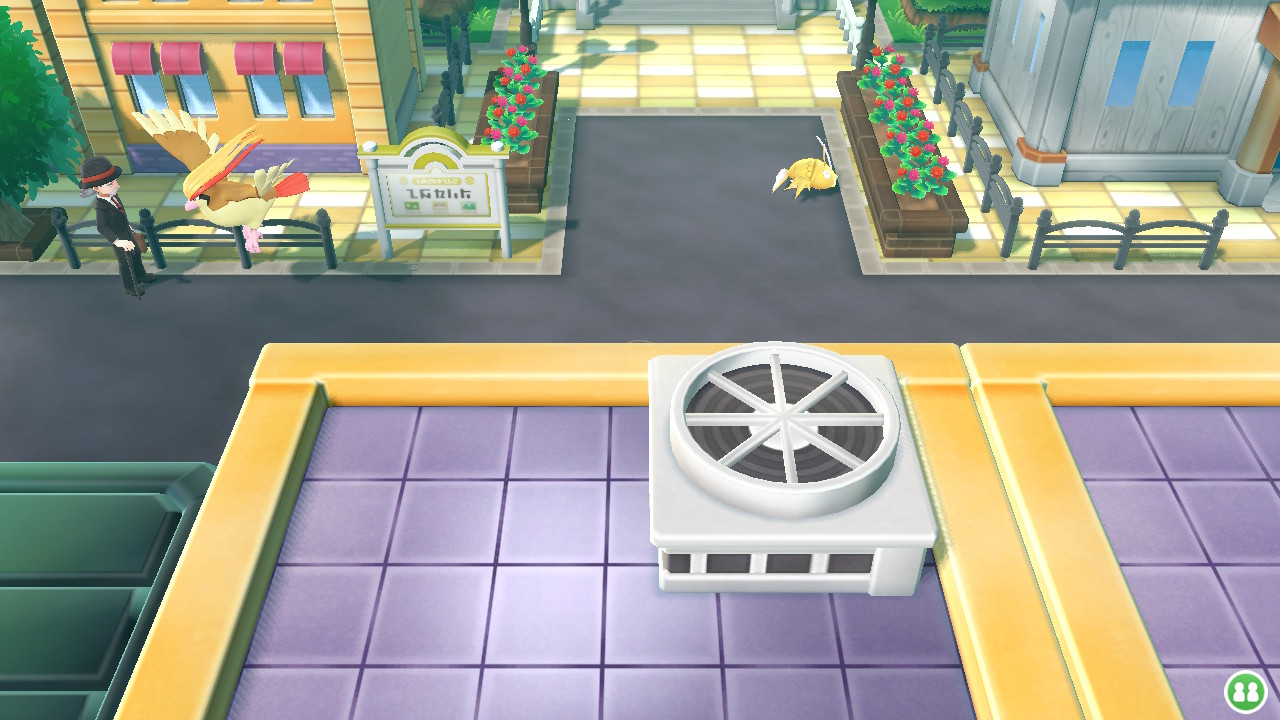Golden: (768, 135, 838, 198)
